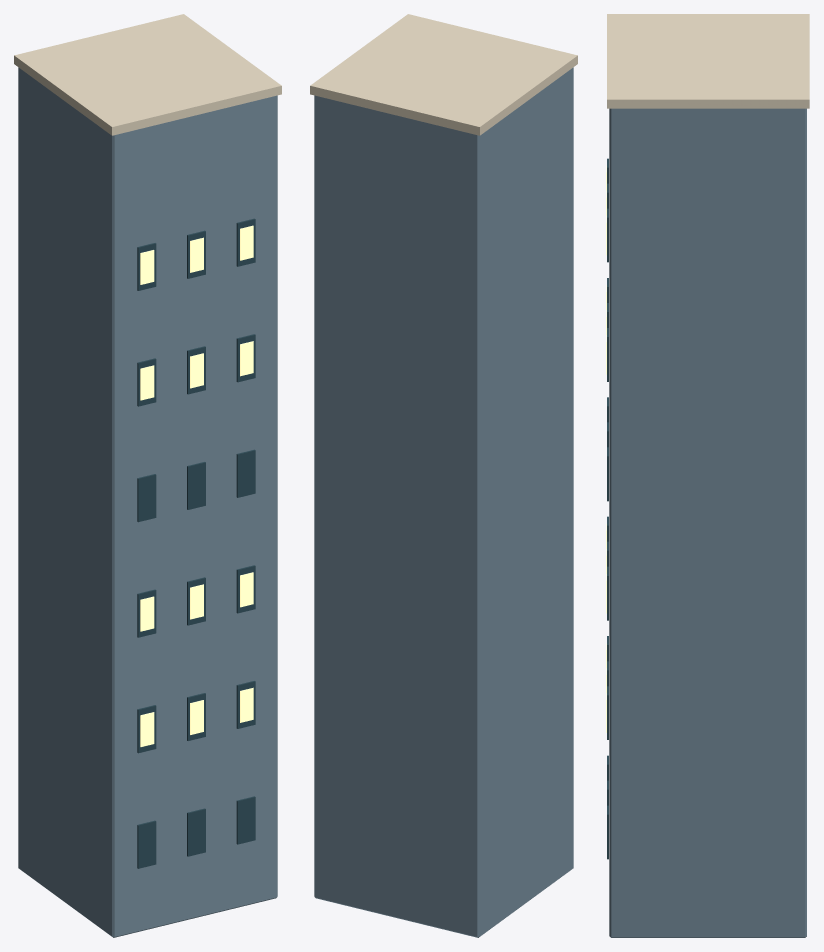
Rendered from sf4_far_block_1.glb.
3 views of the same model, side by side, from view 1: azimuth 30°, elevation 25°; view 2: azimuth 150°, elevation 25°; view 3: azimuth 270°, elevation 25° (orthographic). The views are drawn at different scales.
Visible parts, largest first — view 1: sf4_far_block_1__sf3-dusty-blue, sf4_far_block_1__sf3-warm-ivory, sf4_far_block_1__sf3-deep-glass, sf4_far_block_1__sf3-warm-window; view 2: sf4_far_block_1__sf3-dusty-blue, sf4_far_block_1__sf3-warm-ivory; view 3: sf4_far_block_1__sf3-dusty-blue, sf4_far_block_1__sf3-warm-ivory, sf4_far_block_1__sf3-deep-glass.
Boxes of the visible parts, x1,y1,x2,y2 form: sf4_far_block_1__sf3-dusty-blue: (18, 67, 277, 937); sf4_far_block_1__sf3-warm-ivory: (14, 14, 281, 135); sf4_far_block_1__sf3-deep-glass: (137, 218, 255, 868); sf4_far_block_1__sf3-warm-window: (140, 225, 253, 746); sf4_far_block_1__sf3-dusty-blue: (314, 67, 573, 937); sf4_far_block_1__sf3-warm-ivory: (310, 14, 577, 135); sf4_far_block_1__sf3-dusty-blue: (609, 108, 806, 937); sf4_far_block_1__sf3-warm-ivory: (607, 14, 809, 108); sf4_far_block_1__sf3-deep-glass: (607, 158, 608, 859).
Size of the model in its own units: 6.15 by 28.15 by 6.16.
